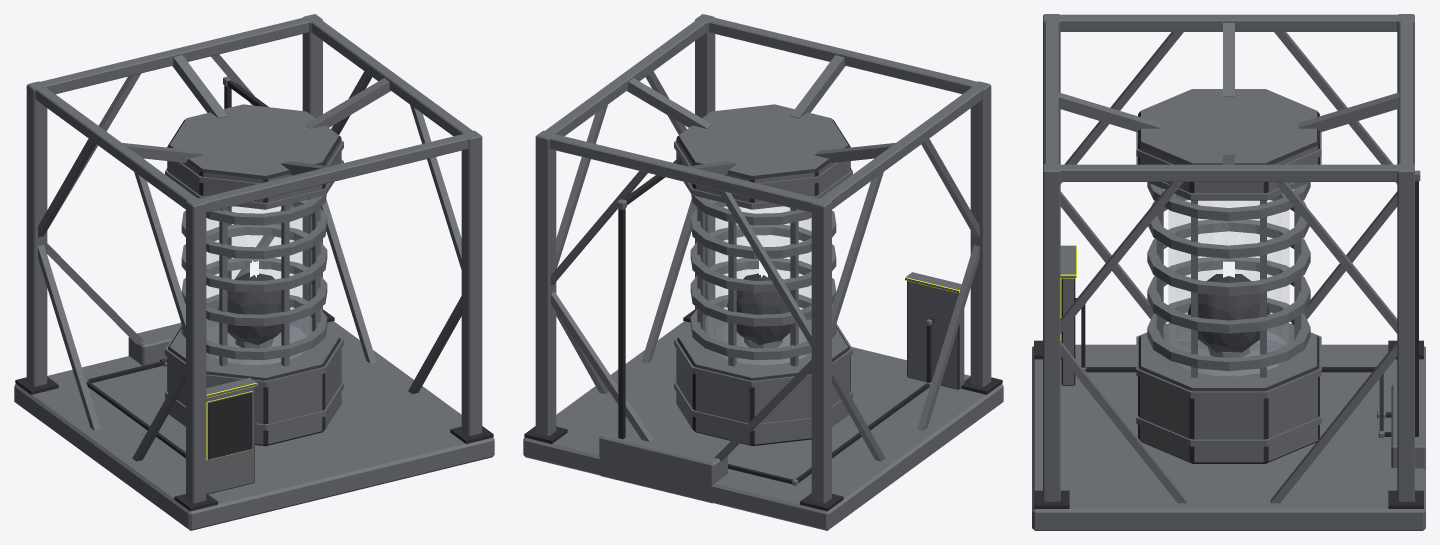
The model's file is BatteryS3.fbx.
The picture shows the model from 3 angles, left to right: view 1: azimuth 30°, elevation 25°; view 2: azimuth 150°, elevation 25°; view 3: azimuth 270°, elevation 25°; orthographic projection. The views are drawn at different scales.
Parts seen in each view (by area): view 1: Frame, Column, Sphere, Wiring; view 2: Frame, Column, Wiring, Sphere; view 3: Frame, Column, Sphere, Wiring.
Part boxes in pixels (bbox=[...]): Frame: bbox=[14, 14, 494, 530]; Column: bbox=[165, 104, 343, 446]; Sphere: bbox=[218, 272, 290, 345]; Wiring: bbox=[85, 76, 268, 458]; Frame: bbox=[523, 14, 1003, 530]; Column: bbox=[674, 104, 852, 446]; Wiring: bbox=[617, 157, 934, 485]; Sphere: bbox=[727, 273, 798, 345]; Frame: bbox=[1032, 14, 1425, 530]; Column: bbox=[1136, 89, 1321, 463]; Sphere: bbox=[1187, 274, 1270, 352]; Wiring: bbox=[1075, 170, 1420, 437].
Bounding box in the file's own units: 4 × 4 × 4.
